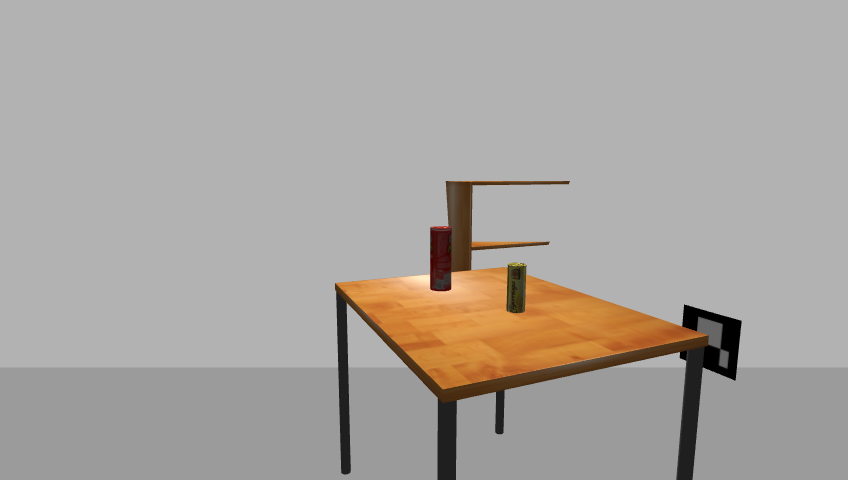aruco marker: (675, 303, 746, 382)
biscuits pack: (506, 262, 527, 315)
bookshelf: (441, 178, 575, 336)
dinner table: (327, 267, 714, 480)
pringles can: (428, 226, 453, 292)
